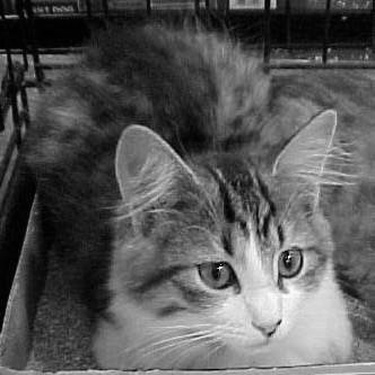cat: (50, 10, 369, 368)
